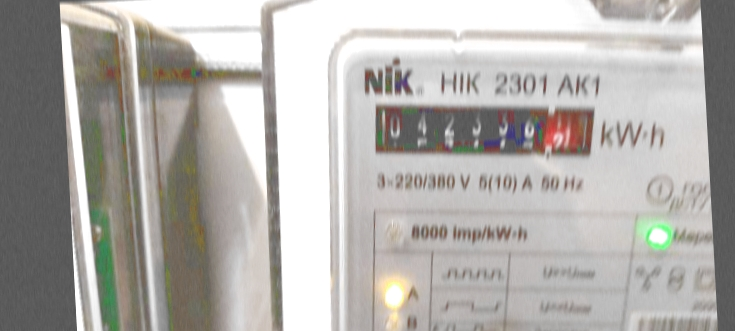0: (388, 110, 403, 140)
2: (440, 109, 460, 137)
3: (467, 108, 485, 138), (496, 108, 512, 136)
4: (414, 110, 431, 138)
6: (521, 112, 538, 140)
screen: (362, 83, 606, 176)
